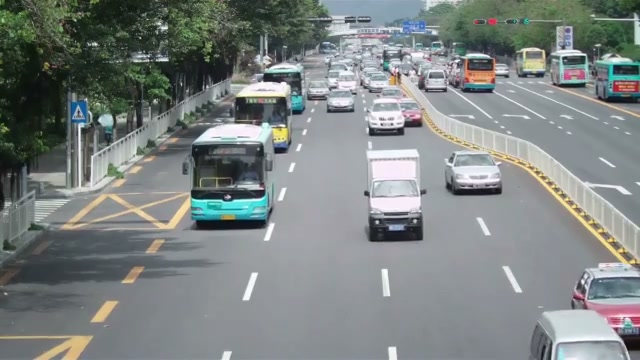bus: (189, 123, 277, 227), (234, 81, 292, 153), (261, 63, 305, 113), (593, 56, 640, 101), (549, 49, 588, 87), (463, 53, 496, 92), (516, 47, 547, 78)
car: (364, 146, 427, 242), (570, 262, 640, 347), (528, 309, 633, 359), (444, 150, 503, 195), (365, 99, 406, 136), (399, 101, 423, 127), (326, 91, 355, 112), (423, 70, 448, 93), (366, 71, 389, 92), (307, 79, 330, 100), (495, 63, 510, 78)
truck: (364, 147, 427, 242), (549, 50, 588, 87), (463, 53, 496, 92)
